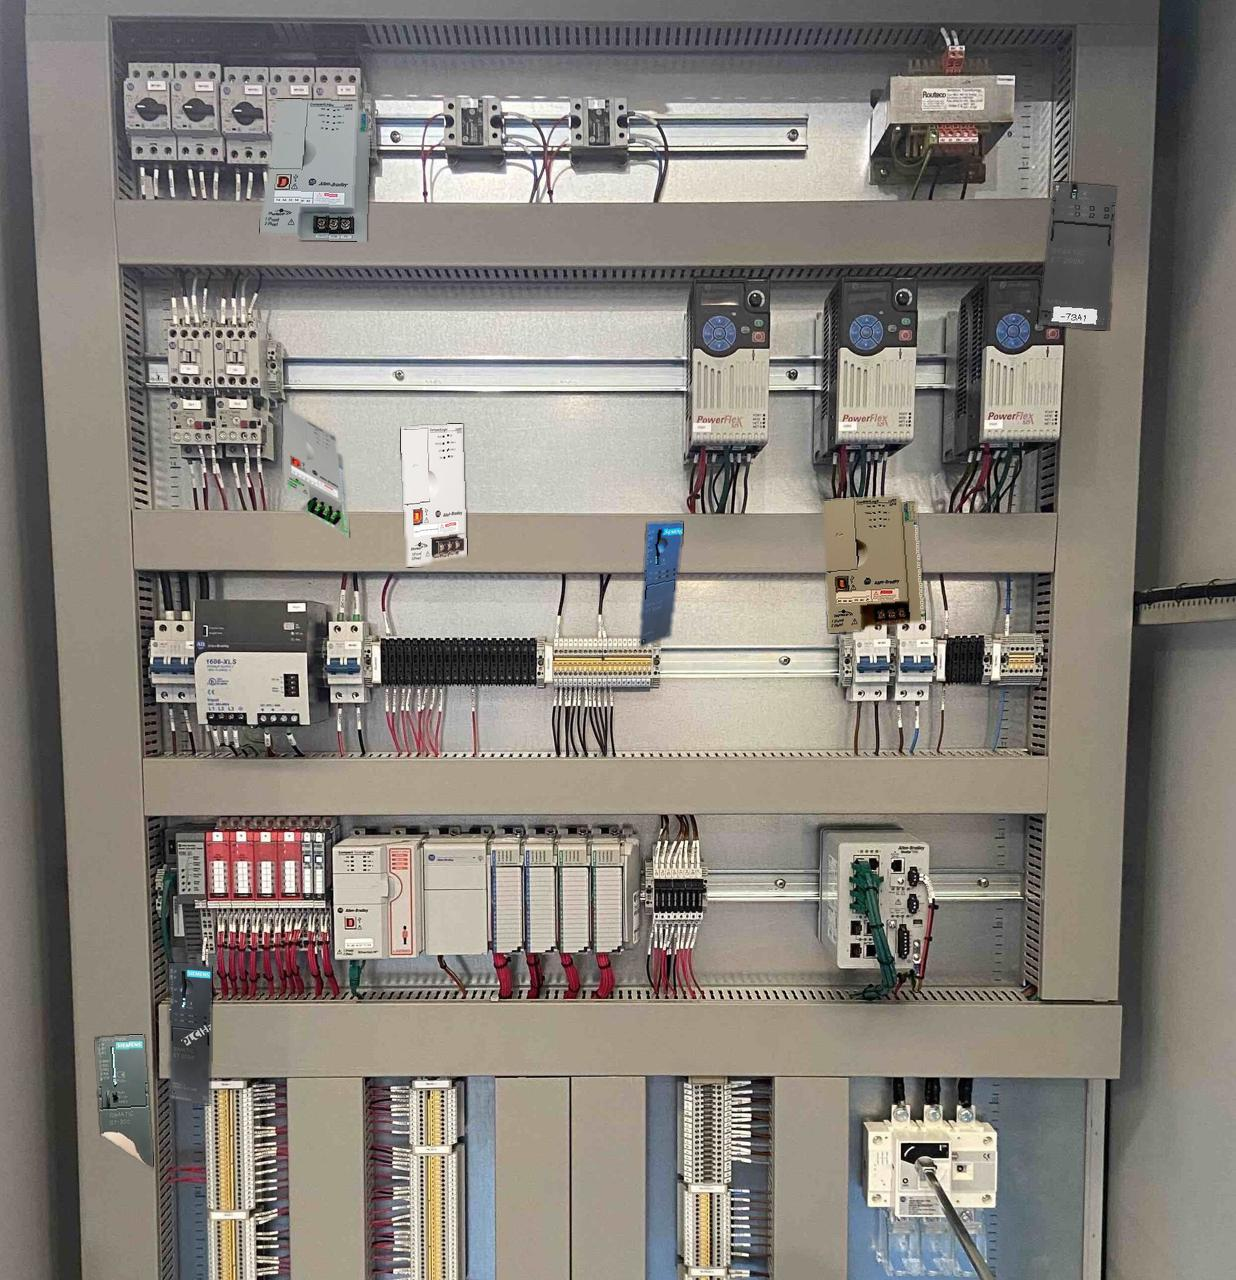AllenBradley: (260, 99, 369, 241), (822, 495, 924, 632), (401, 424, 466, 566), (283, 405, 348, 537)
Siemens: (95, 1034, 153, 1168)
